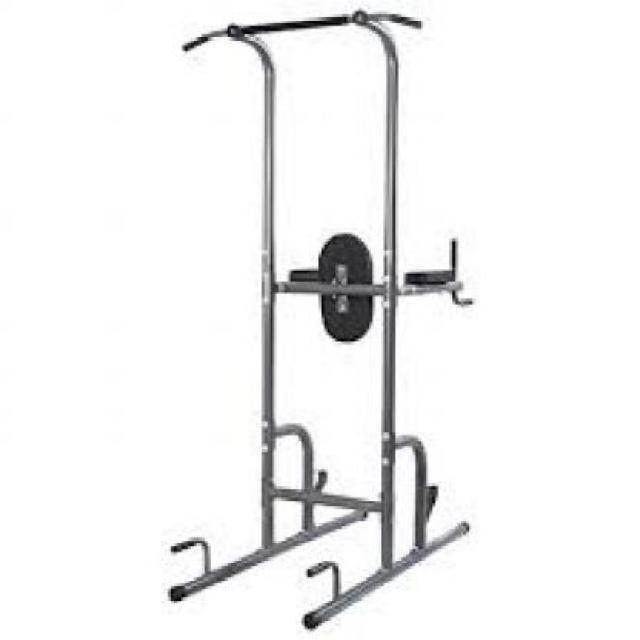chinning dipping: (168, 9, 472, 629)
